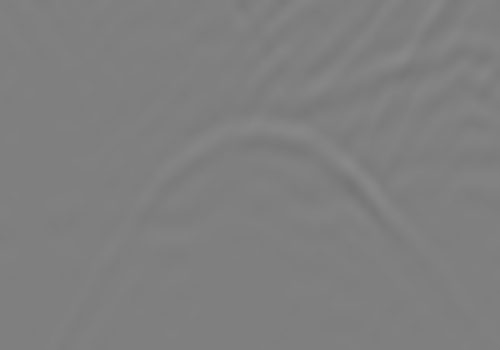hyperbola: (65, 118, 456, 320)
